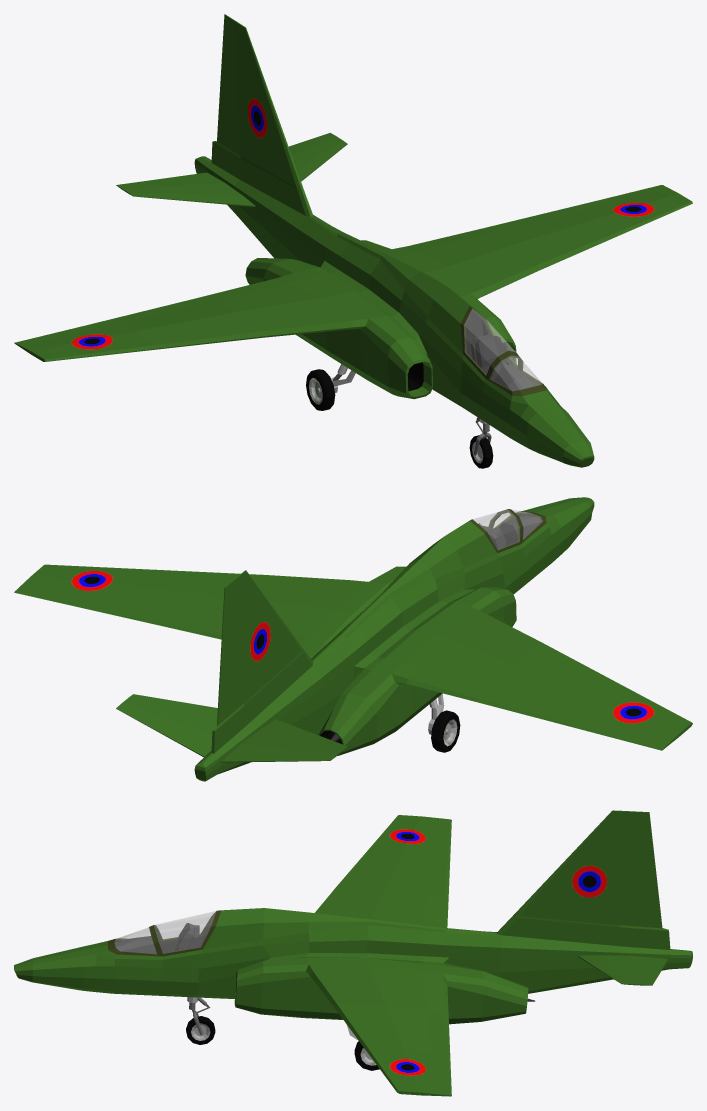
3 views of the same model, one above another, from view 1: azimuth 30°, elevation 25°; view 2: azimuth 150°, elevation 25°; view 3: azimuth 270°, elevation 25° (orthographic). The views are drawn at different scales.
Parts seen in each view (by area): view 1: Circle, Circle.008, Circle.006, Circle.001, Landing gear_RR, Landing gear_F, Circle.002, Circle.004, Circle.010; view 2: Circle, Circle.013, Circle.001, Circle.004, Circle.010, Circle.008, Circle.003, Circle.002, Landing gear_RR, Circle.005, Circle.011, Circle.006; view 3: Circle, Circle.001, Circle.008, Circle.006, Landing gear_F, Circle.010, Circle.004, Circle.012, Circle.003, Circle.013, Circle.011, Circle.005.
Part boxes in pixels (x1=…): Circle: x1=14, y1=14, x2=692, y2=467; Circle.008: x1=460, y1=306, x2=519, y2=379; Circle.006: x1=487, y1=353, x2=546, y2=396; Circle.001: x1=217, y1=59, x2=239, y2=143; Landing gear_RR: x1=306, y1=364, x2=355, y2=410; Landing gear_F: x1=469, y1=417, x2=493, y2=468; Circle.002: x1=116, y1=173, x2=221, y2=189; Circle.004: x1=110, y1=296, x2=214, y2=324; Circle.010: x1=479, y1=207, x2=579, y2=233; Circle: x1=14, y1=497, x2=692, y2=781; Circle.013: x1=116, y1=703, x2=212, y2=756; Circle.001: x1=217, y1=624, x2=242, y2=711; Circle.004: x1=477, y1=688, x2=579, y2=726; Circle.010: x1=108, y1=602, x2=214, y2=635; Circle.008: x1=470, y1=509, x2=521, y2=553; Circle.003: x1=406, y1=667, x2=488, y2=701; Circle.002: x1=225, y1=744, x2=336, y2=762; Landing gear_RR: x1=428, y1=694, x2=460, y2=752; Circle.005: x1=569, y1=714, x2=656, y2=747; Circle.011: x1=25, y1=588, x2=118, y2=613; Circle.006: x1=492, y1=509, x2=546, y2=543; Circle: x1=14, y1=810, x2=692, y2=1096; Circle.001: x1=620, y1=852, x2=661, y2=916; Circle.008: x1=151, y1=910, x2=221, y2=956; Circle.006: x1=107, y1=926, x2=160, y2=956; Landing gear_F: x1=186, y1=997, x2=215, y2=1044; Circle.010: x1=427, y1=1010, x2=450, y2=1055; Circle.004: x1=427, y1=856, x2=450, y2=897; Circle.012: x1=424, y1=978, x2=448, y2=1014; Circle.003: x1=424, y1=893, x2=448, y2=927; Circle.013: x1=636, y1=957, x2=667, y2=985; Circle.011: x1=431, y1=1052, x2=451, y2=1090; Circle.005: x1=431, y1=823, x2=451, y2=858.
Size of the model in its own units: 1138 by 448 by 1182.
